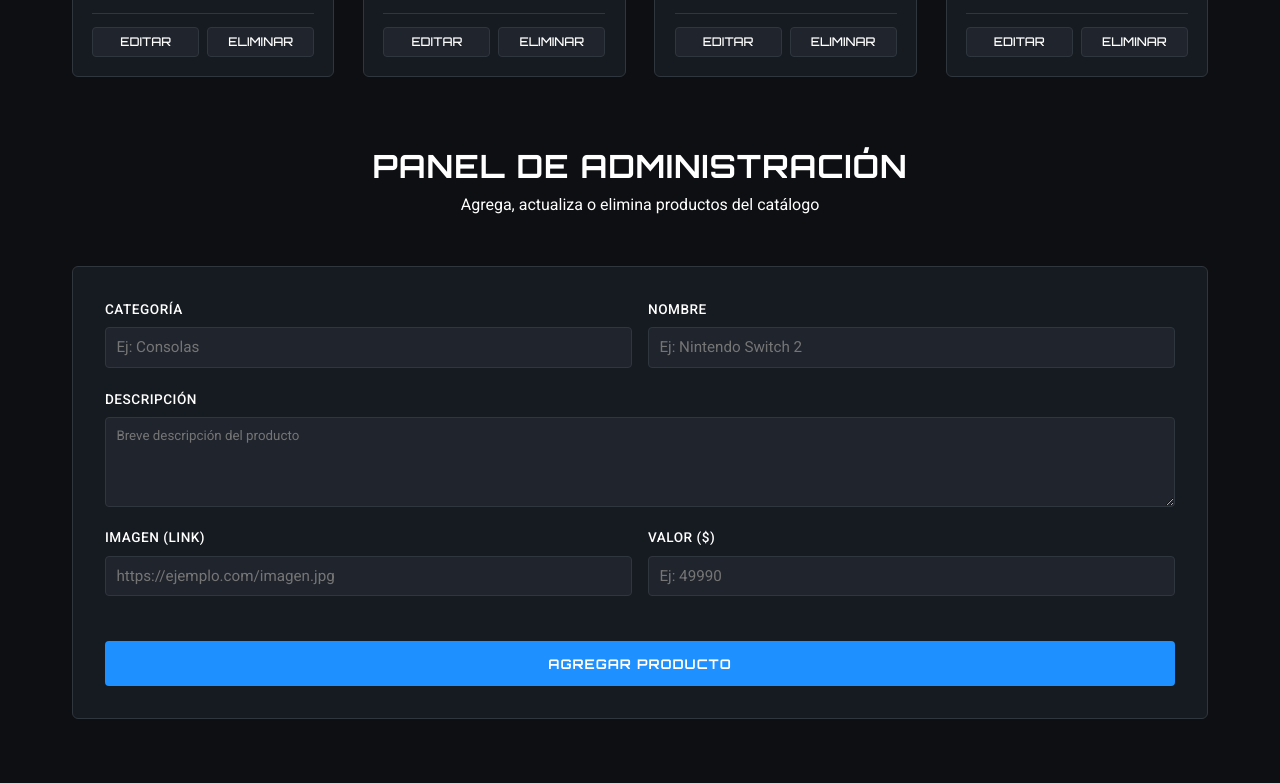
Test: pagina Inicio › CRUD de productos (admin) › muestra el primer error de validación al enviar el formulario vacío
(page scrolled)
Click the button "Agregar producto": {"x": 640, "y": 664} [105, 641, 1175, 686]
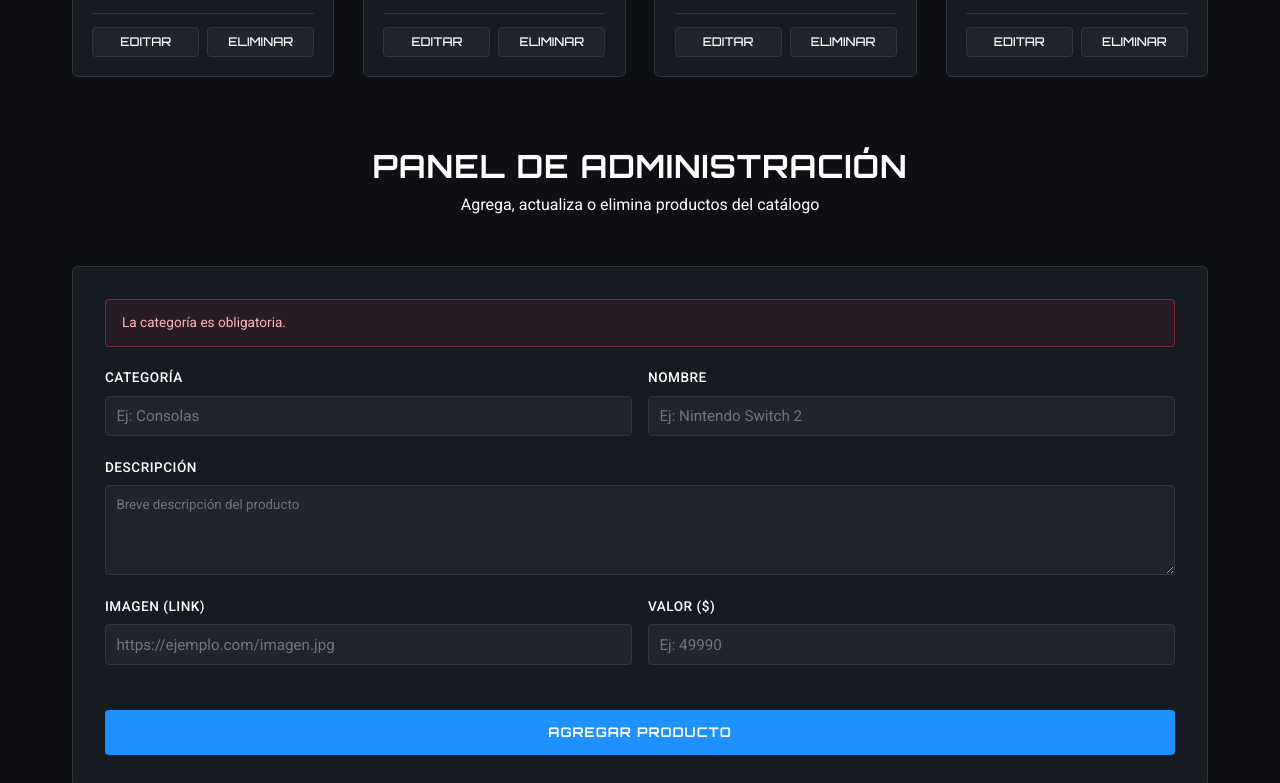
Expected: the text "La categoría es obligatoria." is shown, [105, 299, 1175, 347]
